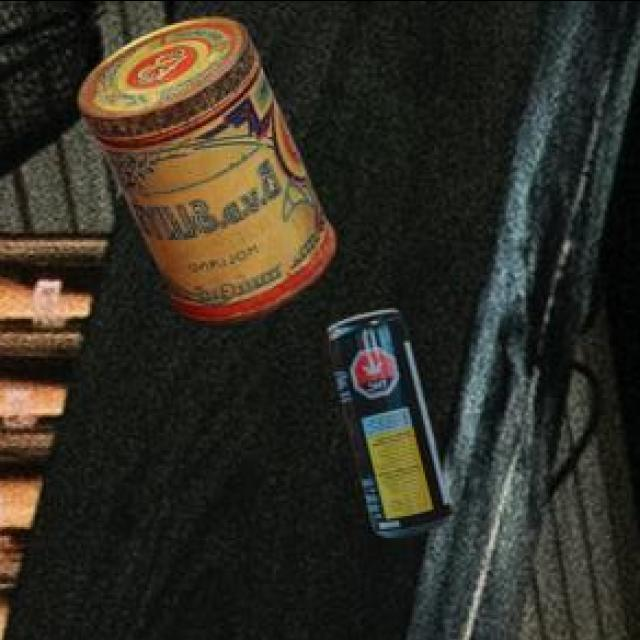logam: (76, 14, 332, 321), (325, 306, 448, 534)
